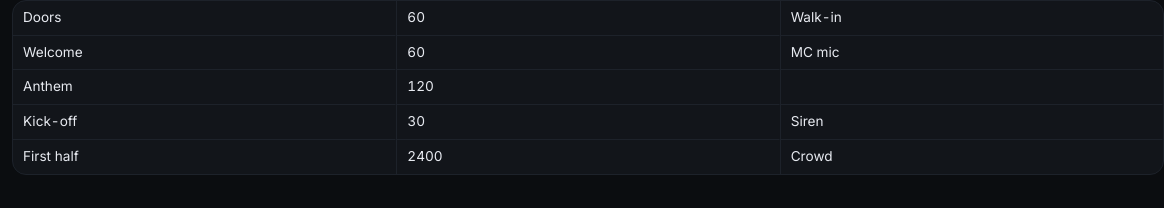
spreadsheet keys › a paste from Excel keeps the formatting Excel writes as named styles
What coordinates should you click on to do the following:
click the cell "Doors"
I would click on:
 (205, 18)
Its box is [13, 1, 396, 36].
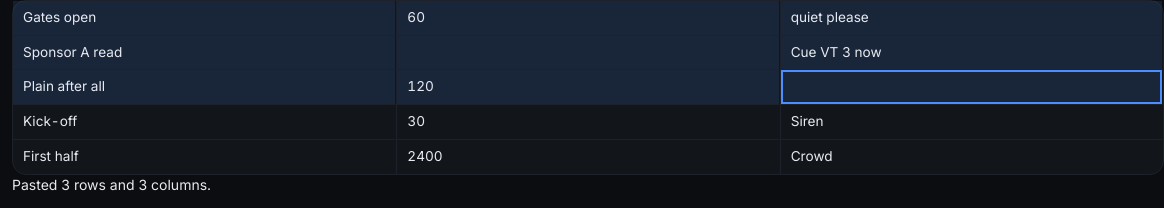
Result: the cell "Gates open" is shown at [13, 1, 396, 36]
Result: the cell "Cue VT 3 now" is shown at [780, 36, 1163, 70]
Result: the cell "Plain after all" is shown at [13, 70, 396, 105]
